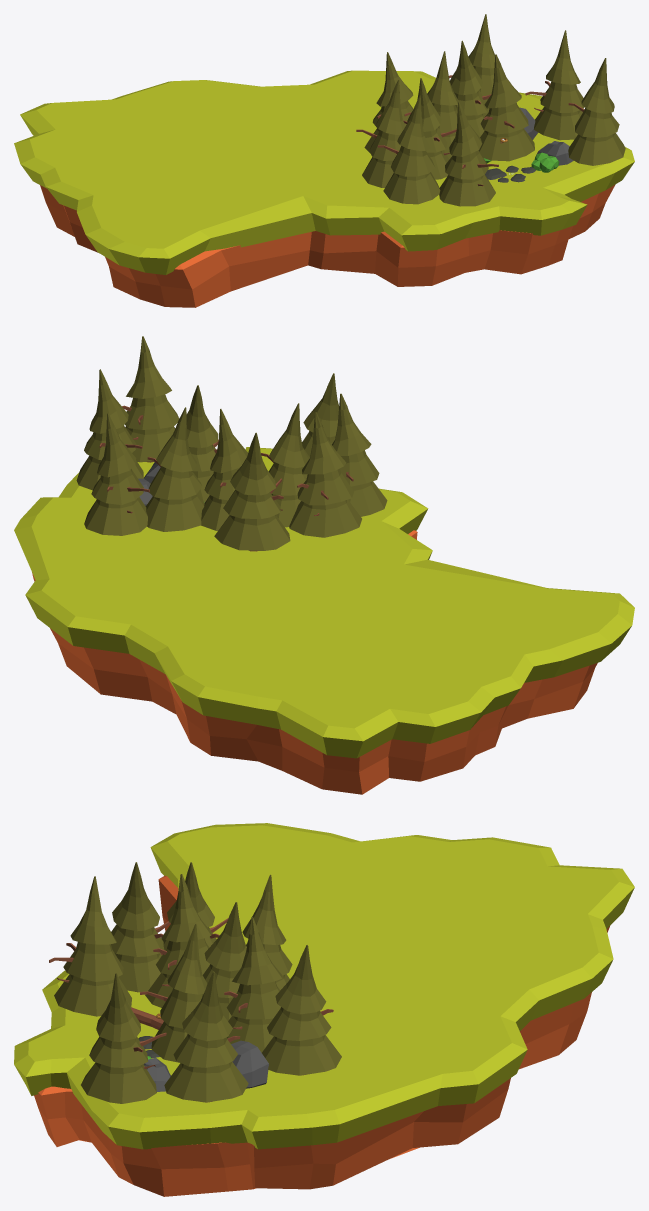
Rendered from isla_de_pajaro.fbx.
The picture shows the model from 3 angles, top to bottom: view 1: azimuth 30°, elevation 25°; view 2: azimuth 150°, elevation 25°; view 3: azimuth 270°, elevation 25°; orthographic projection. The views are drawn at different scales.
Visible parts, largest first — view 1: Plane.011, Plane.012, Cube.032, Cube.027, Cube.029, Cube.030, Cube.026, Cube.031, Cube.023, Cube.020, Cube.018, Cube.021 (+3 smaller); view 2: Plane.011, Plane.012, Cube.028, Cube.031, Cube.021, Cube.023, Cube.032, Cube.029, Cube.020, Cube.018, Cube.026, Cube.027 (+1 smaller); view 3: Plane.011, Plane.012, Cube.026, Cube.021, Cube.032, Cube.030, Cube.029, Cube.023, Cube.027, Cube.020, Cube.018, Cube.028 (+2 smaller).
Part boxes in pixels (x1,y1,x2,y2): Plane.011: (14,70,634,274); Plane.012: (40,184,615,307); Cube.032: (568,58,625,165); Cube.027: (478,54,534,161); Cube.029: (377,95,440,204); Cube.030: (439,102,498,206); Cube.026: (525,30,584,140); Cube.031: (356,79,405,187); Cube.023: (449,40,491,136); Cube.020: (407,78,456,179); Cube.018: (404,51,458,159); Cube.021: (449,14,495,114); Plane.011: (14,447,634,758); Plane.012: (32,530,597,794); Cube.028: (214,432,290,551); Cube.031: (289,412,361,537); Cube.021: (84,413,149,535); Cube.023: (145,407,204,531); Cube.032: (122,336,179,462); Cube.029: (332,393,387,516); Cube.020: (261,403,309,527); Cube.018: (201,409,247,530); Cube.026: (76,369,143,490); Cube.027: (173,385,218,501); Plane.011: (14,823,634,1149); Plane.012: (34,875,609,1196); Cube.026: (164,971,248,1102); Cube.021: (262,945,341,1075); Cube.032: (81,972,166,1103); Cube.030: (49,876,131,1016); Cube.029: (111,862,170,992); Cube.023: (224,917,282,1052); Cube.027: (140,924,207,1062); Cube.020: (145,874,211,1007); Cube.018: (202,902,246,1020); Cube.028: (242,874,292,990).
Size of the model in its own units: 11070 by 3684 by 9404.
